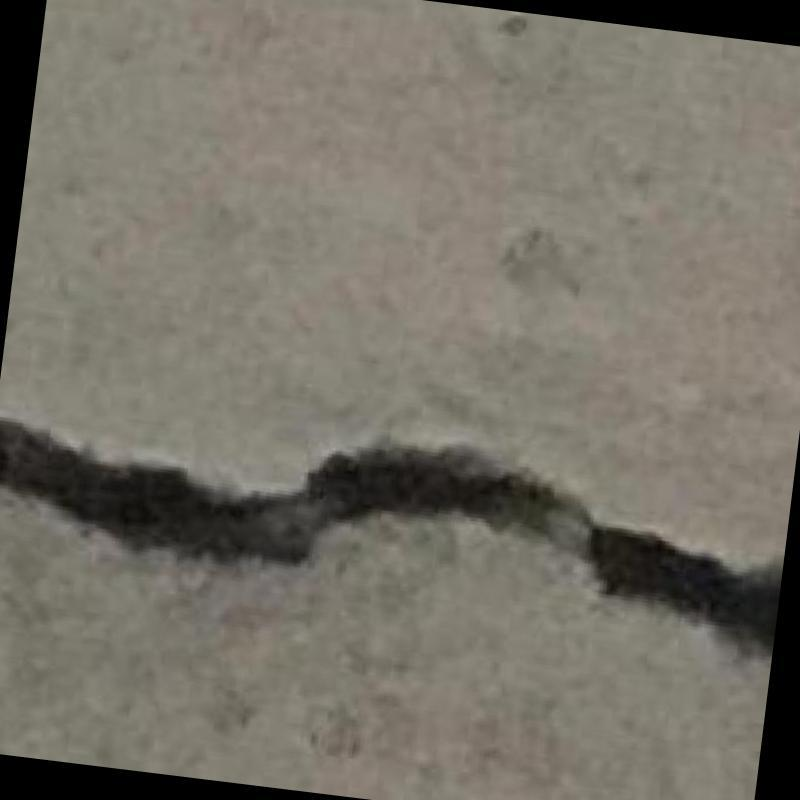pothole: (0, 418, 779, 652)
